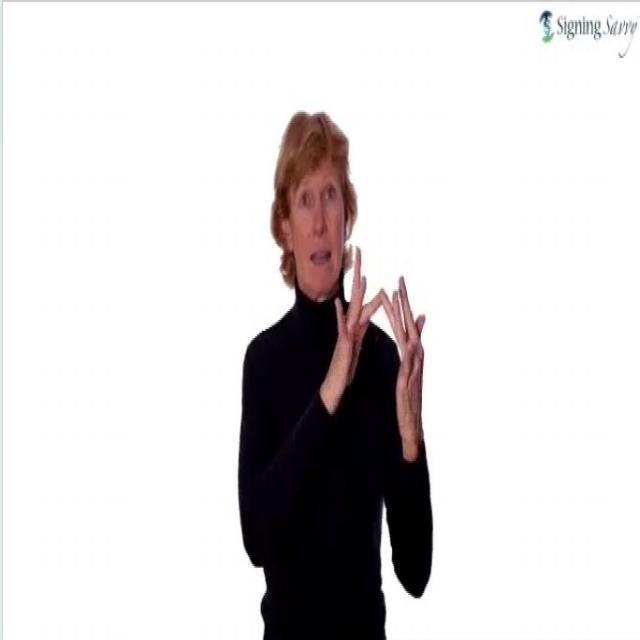Internet: (238, 105, 435, 638)
